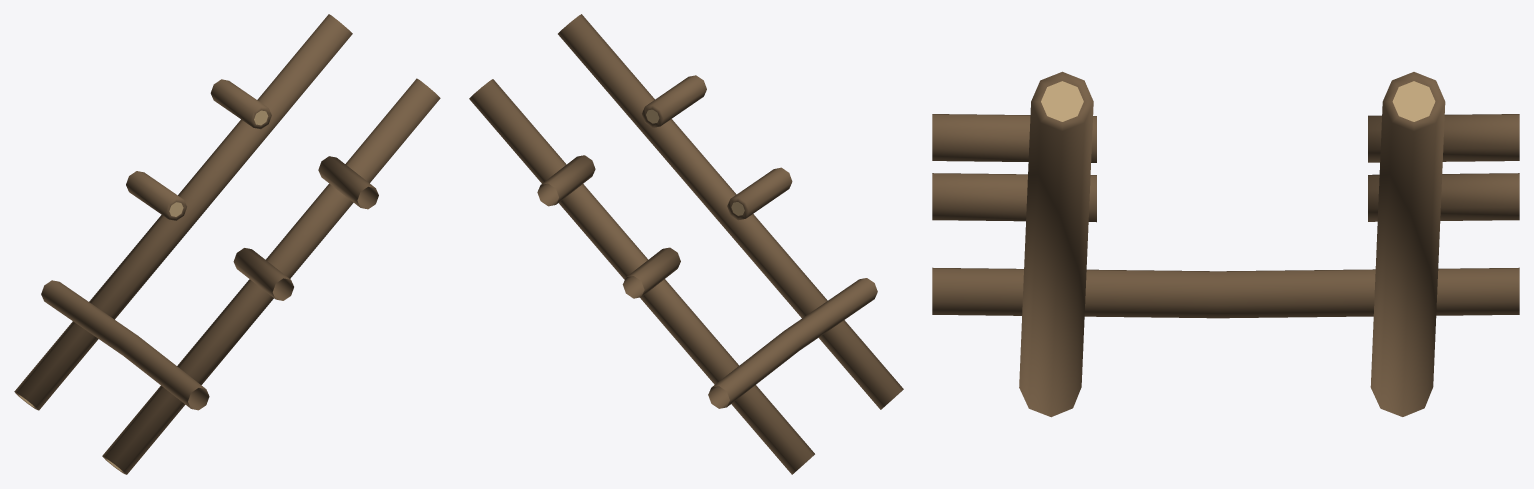
File: rpgpp_ag_roof_support_01_6x3x3_half_a_chimney_01.fbx
3 views of the same model, side by side, from view 1: azimuth 30°, elevation 25°; view 2: azimuth 150°, elevation 25°; view 3: azimuth 270°, elevation 25° (orthographic). The views are drawn at different scales.
Parts seen in each view (by area): view 1: rpgpp_ag_roof_support_01_6x3x3_half_a_chimney_01; view 2: rpgpp_ag_roof_support_01_6x3x3_half_a_chimney_01; view 3: rpgpp_ag_roof_support_01_6x3x3_half_a_chimney_01.
Part boxes in pixels (x1=…): rpgpp_ag_roof_support_01_6x3x3_half_a_chimney_01: x1=14, y1=14, x2=440, y2=474; rpgpp_ag_roof_support_01_6x3x3_half_a_chimney_01: x1=469, y1=14, x2=903, y2=474; rpgpp_ag_roof_support_01_6x3x3_half_a_chimney_01: x1=932, y1=71, x2=1519, y2=417.
Bounding box in the file's own units: 3.96 × 3.59 × 3.
